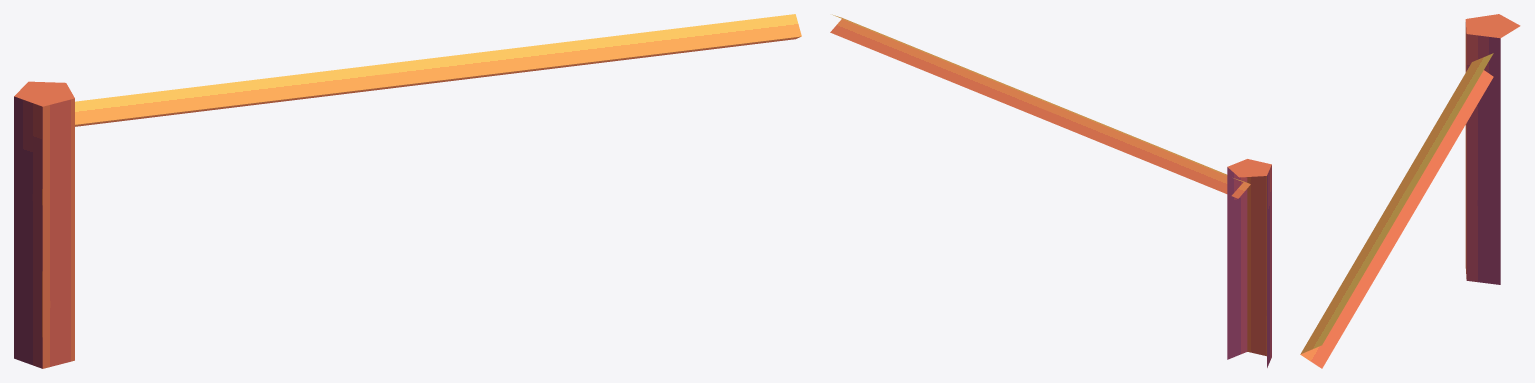
The model's file is ring.gltf.
3 views of the same model, side by side, from view 1: azimuth 30°, elevation 25°; view 2: azimuth 150°, elevation 25°; view 3: azimuth 270°, elevation 25° (orthographic). The views are drawn at different scales.
Parts seen in each view (by area): view 1: rope, pillar; view 2: pillar, rope; view 3: rope, pillar.
Boxes of the visible parts, x1,y1,x2,y2 form: rope: (75, 14, 801, 126); pillar: (14, 81, 74, 368); pillar: (1227, 159, 1271, 367); rope: (830, 14, 1250, 198); rope: (1300, 53, 1493, 368); pillar: (1465, 14, 1520, 284).
Size of what is drawn, in the model's own units: 1.54 by 0.5625 by 0.4558.
2 materials, 2 textured.
